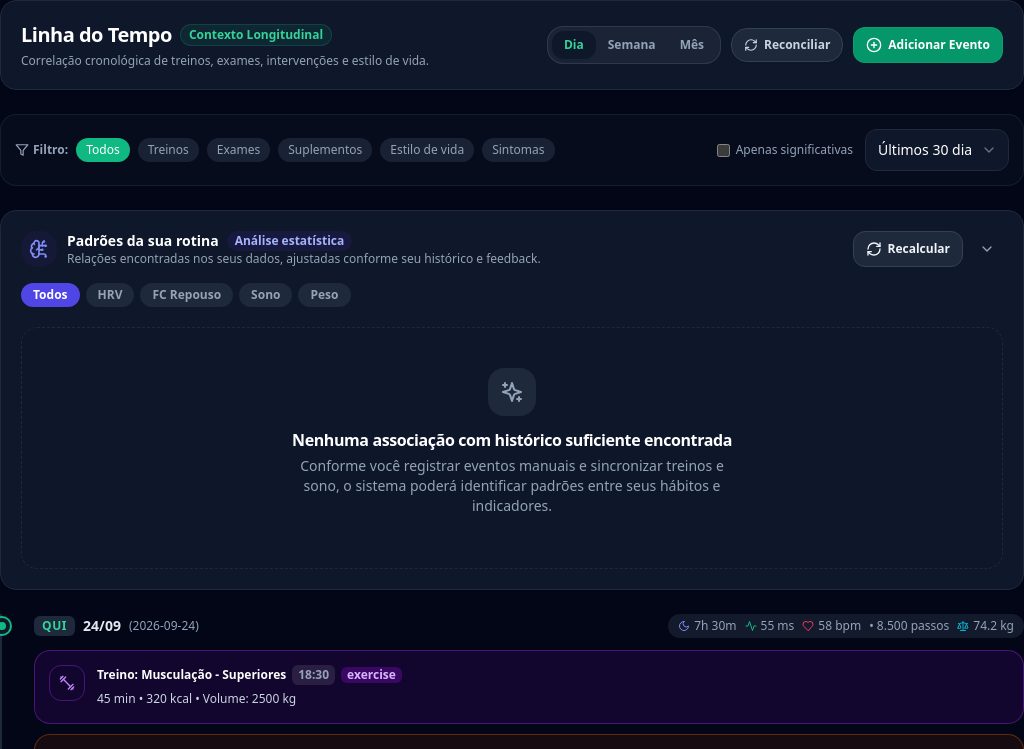
Test: TimelineView › switches zoom to Semana and displays weekly cards
Click the button "Semana".
click(632, 45)  # box [596, 31, 668, 59]
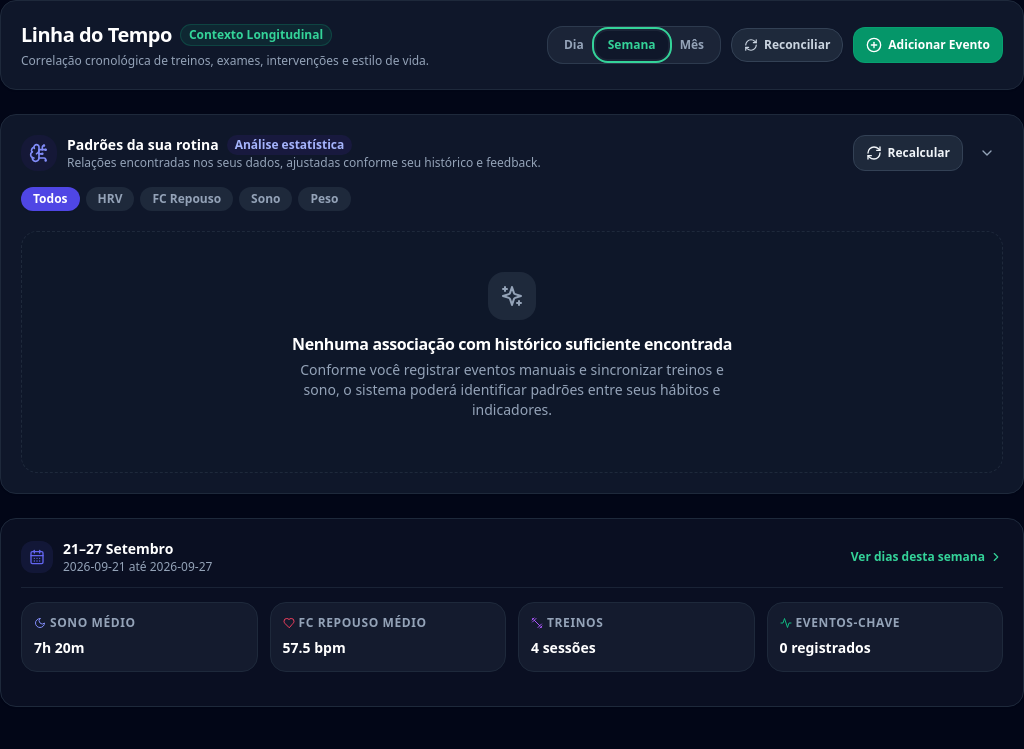
Now the heading "21–27 Setembro" is shown, box [63, 539, 173, 558]
Now the text "7h 20m" is shown, box [34, 638, 85, 657]
